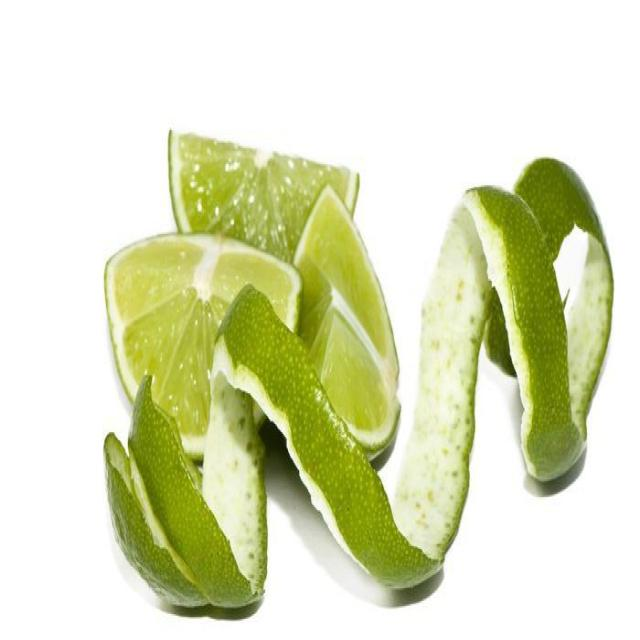Organik: (106, 276, 462, 605), (424, 145, 622, 489), (100, 229, 310, 453), (282, 179, 408, 466), (158, 118, 379, 264)
